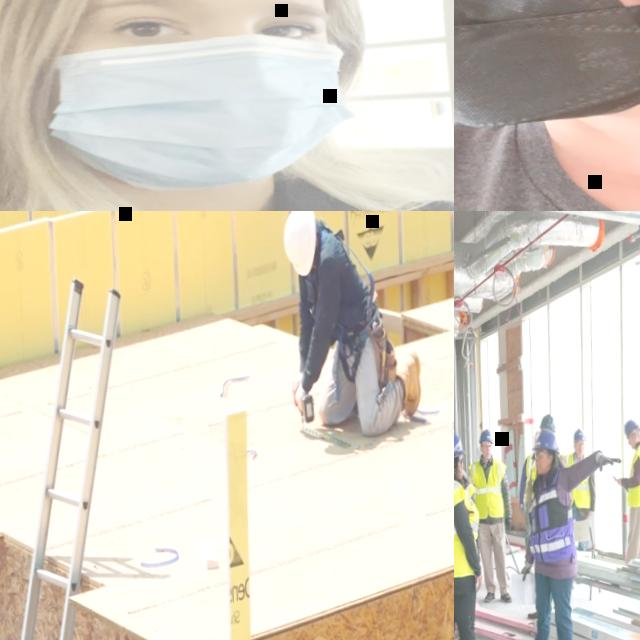Hardhat: (280, 211, 319, 279), (531, 428, 561, 454), (454, 428, 467, 457), (623, 417, 640, 438), (540, 413, 557, 433), (479, 427, 495, 444), (573, 427, 588, 441), (534, 427, 542, 438)
Mask: (46, 29, 356, 194), (454, 0, 640, 134)
NO-Mask: (536, 460, 550, 473), (576, 447, 585, 456), (483, 450, 492, 459), (458, 465, 464, 478), (631, 438, 637, 449)
NO-Safety Vest: (454, 92, 640, 211), (313, 228, 365, 344)
Person: (0, 0, 454, 211), (454, 0, 640, 211), (279, 211, 427, 439), (510, 424, 634, 640), (467, 426, 520, 604), (454, 427, 492, 640), (520, 410, 573, 511), (562, 425, 601, 551), (611, 417, 640, 565), (515, 426, 547, 552)
Safety Vest: (526, 464, 580, 562), (454, 469, 483, 578), (468, 456, 511, 519), (532, 453, 571, 499), (565, 450, 594, 506), (623, 441, 640, 507), (521, 451, 538, 512), (466, 481, 478, 497)
